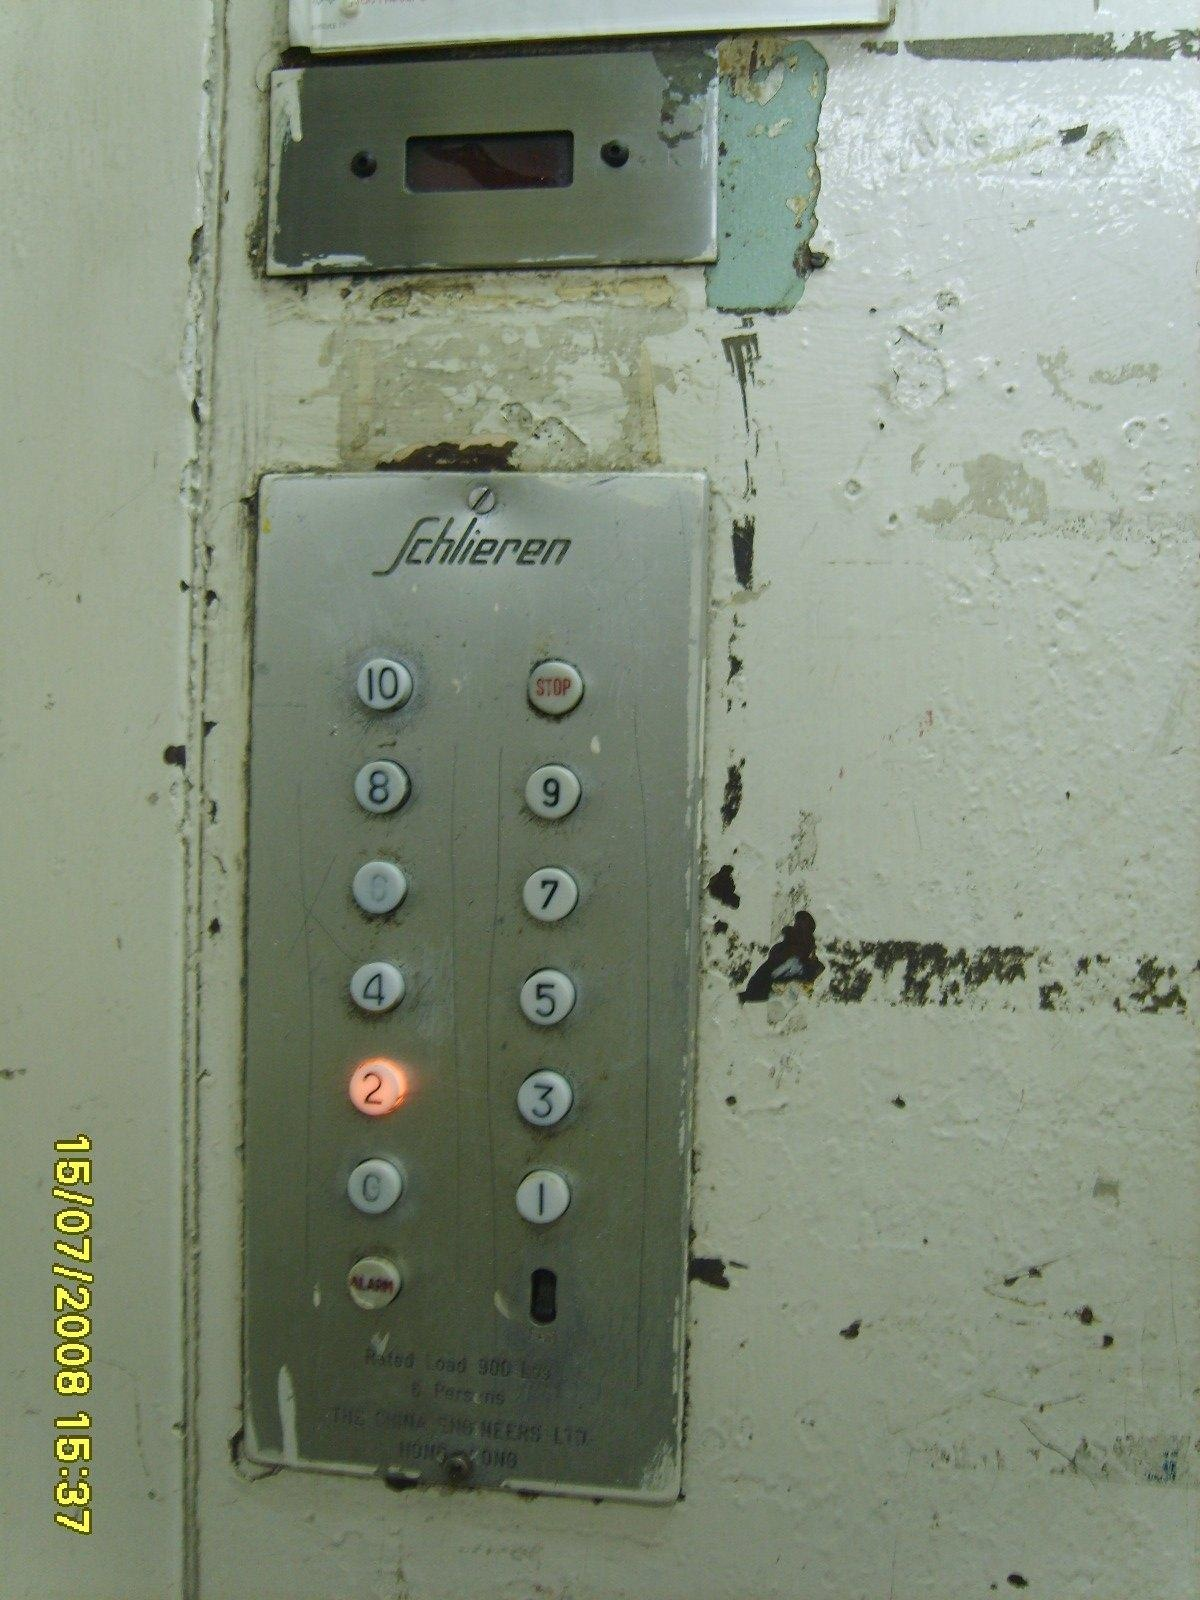0: (338, 1148, 410, 1226)
1: (505, 1159, 577, 1237)
10: (347, 646, 418, 724)
2: (342, 1049, 413, 1128)
3: (508, 1063, 580, 1141)
4: (342, 952, 413, 1031)
5: (511, 960, 584, 1038)
6: (344, 849, 416, 927)
7: (514, 857, 586, 935)
8: (345, 750, 418, 826)
9: (517, 753, 589, 831)
text: (339, 1247, 411, 1325), (518, 648, 590, 724)
